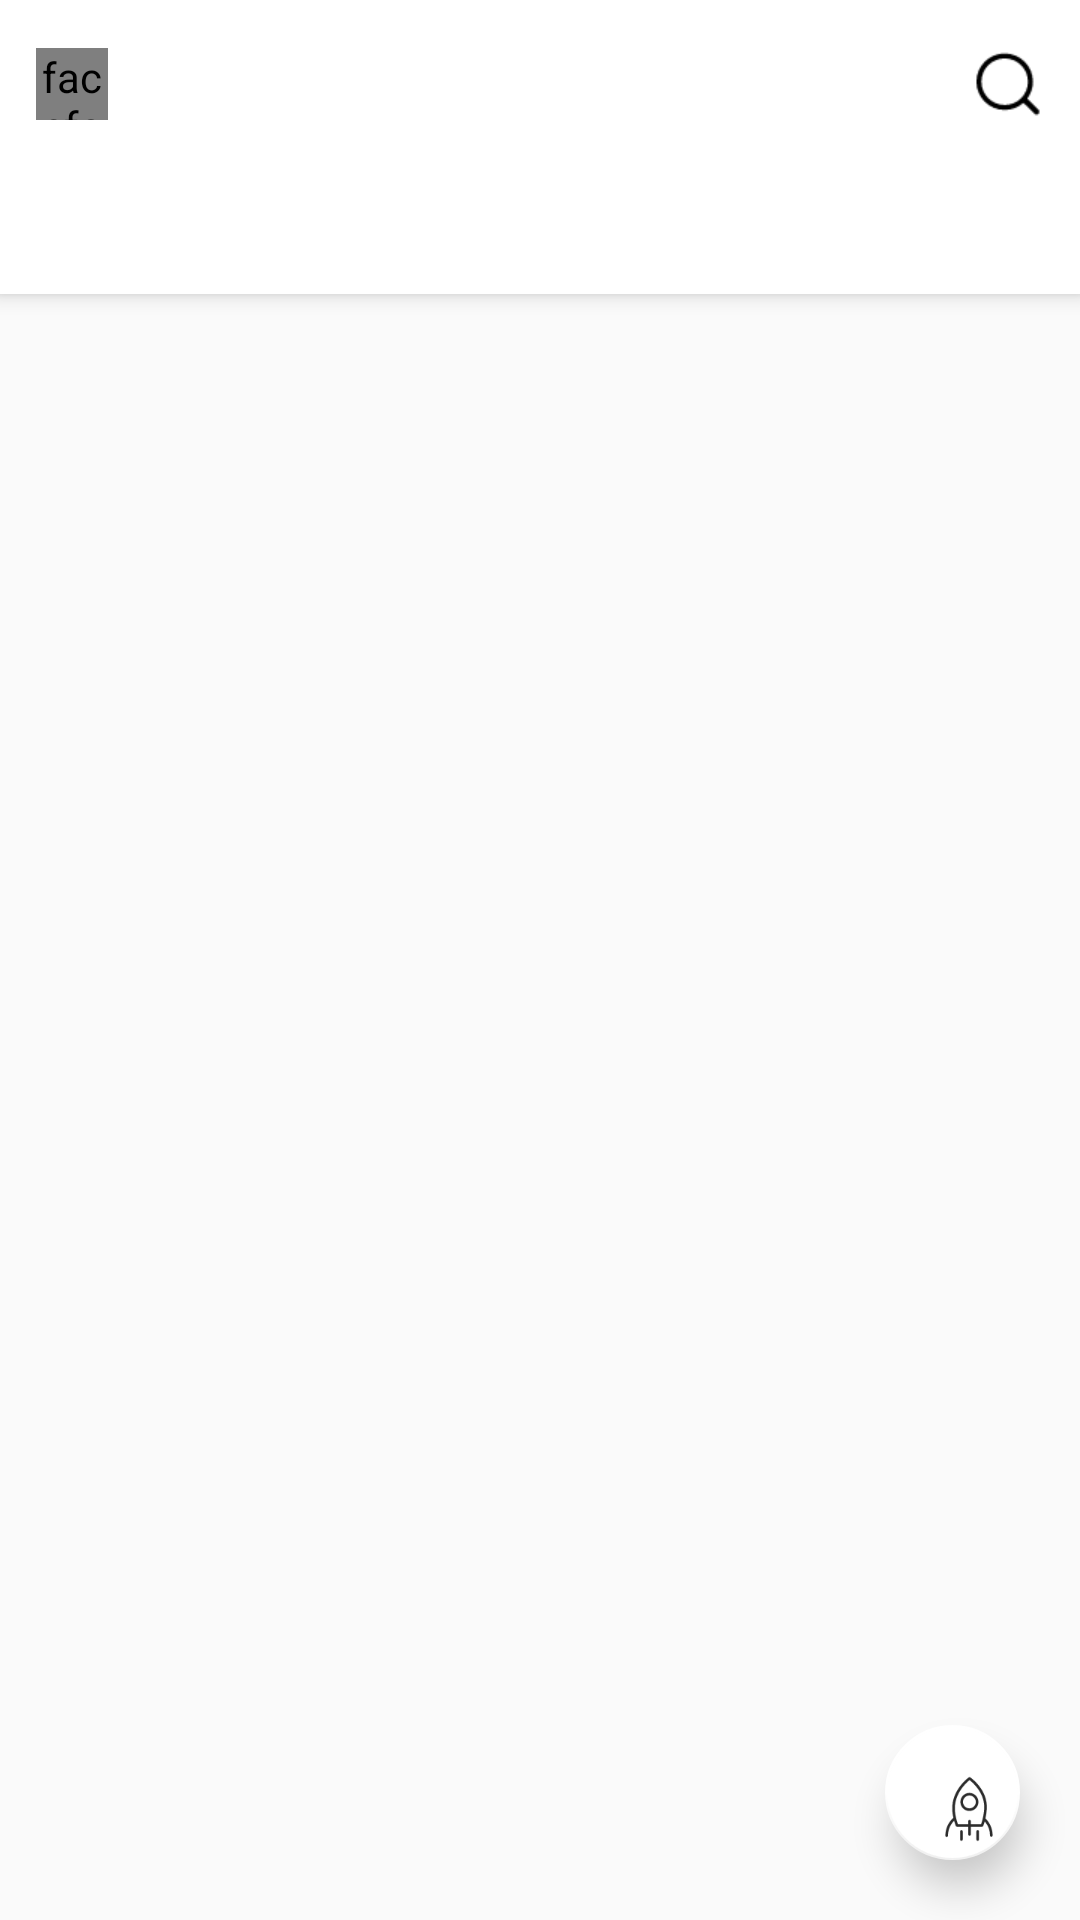

Icons on this 1080x1920 Android screen, each with its box as (x1, y1, x2, y2):
search: (976, 52, 1040, 116)
top: (902, 1777, 1019, 1860)
